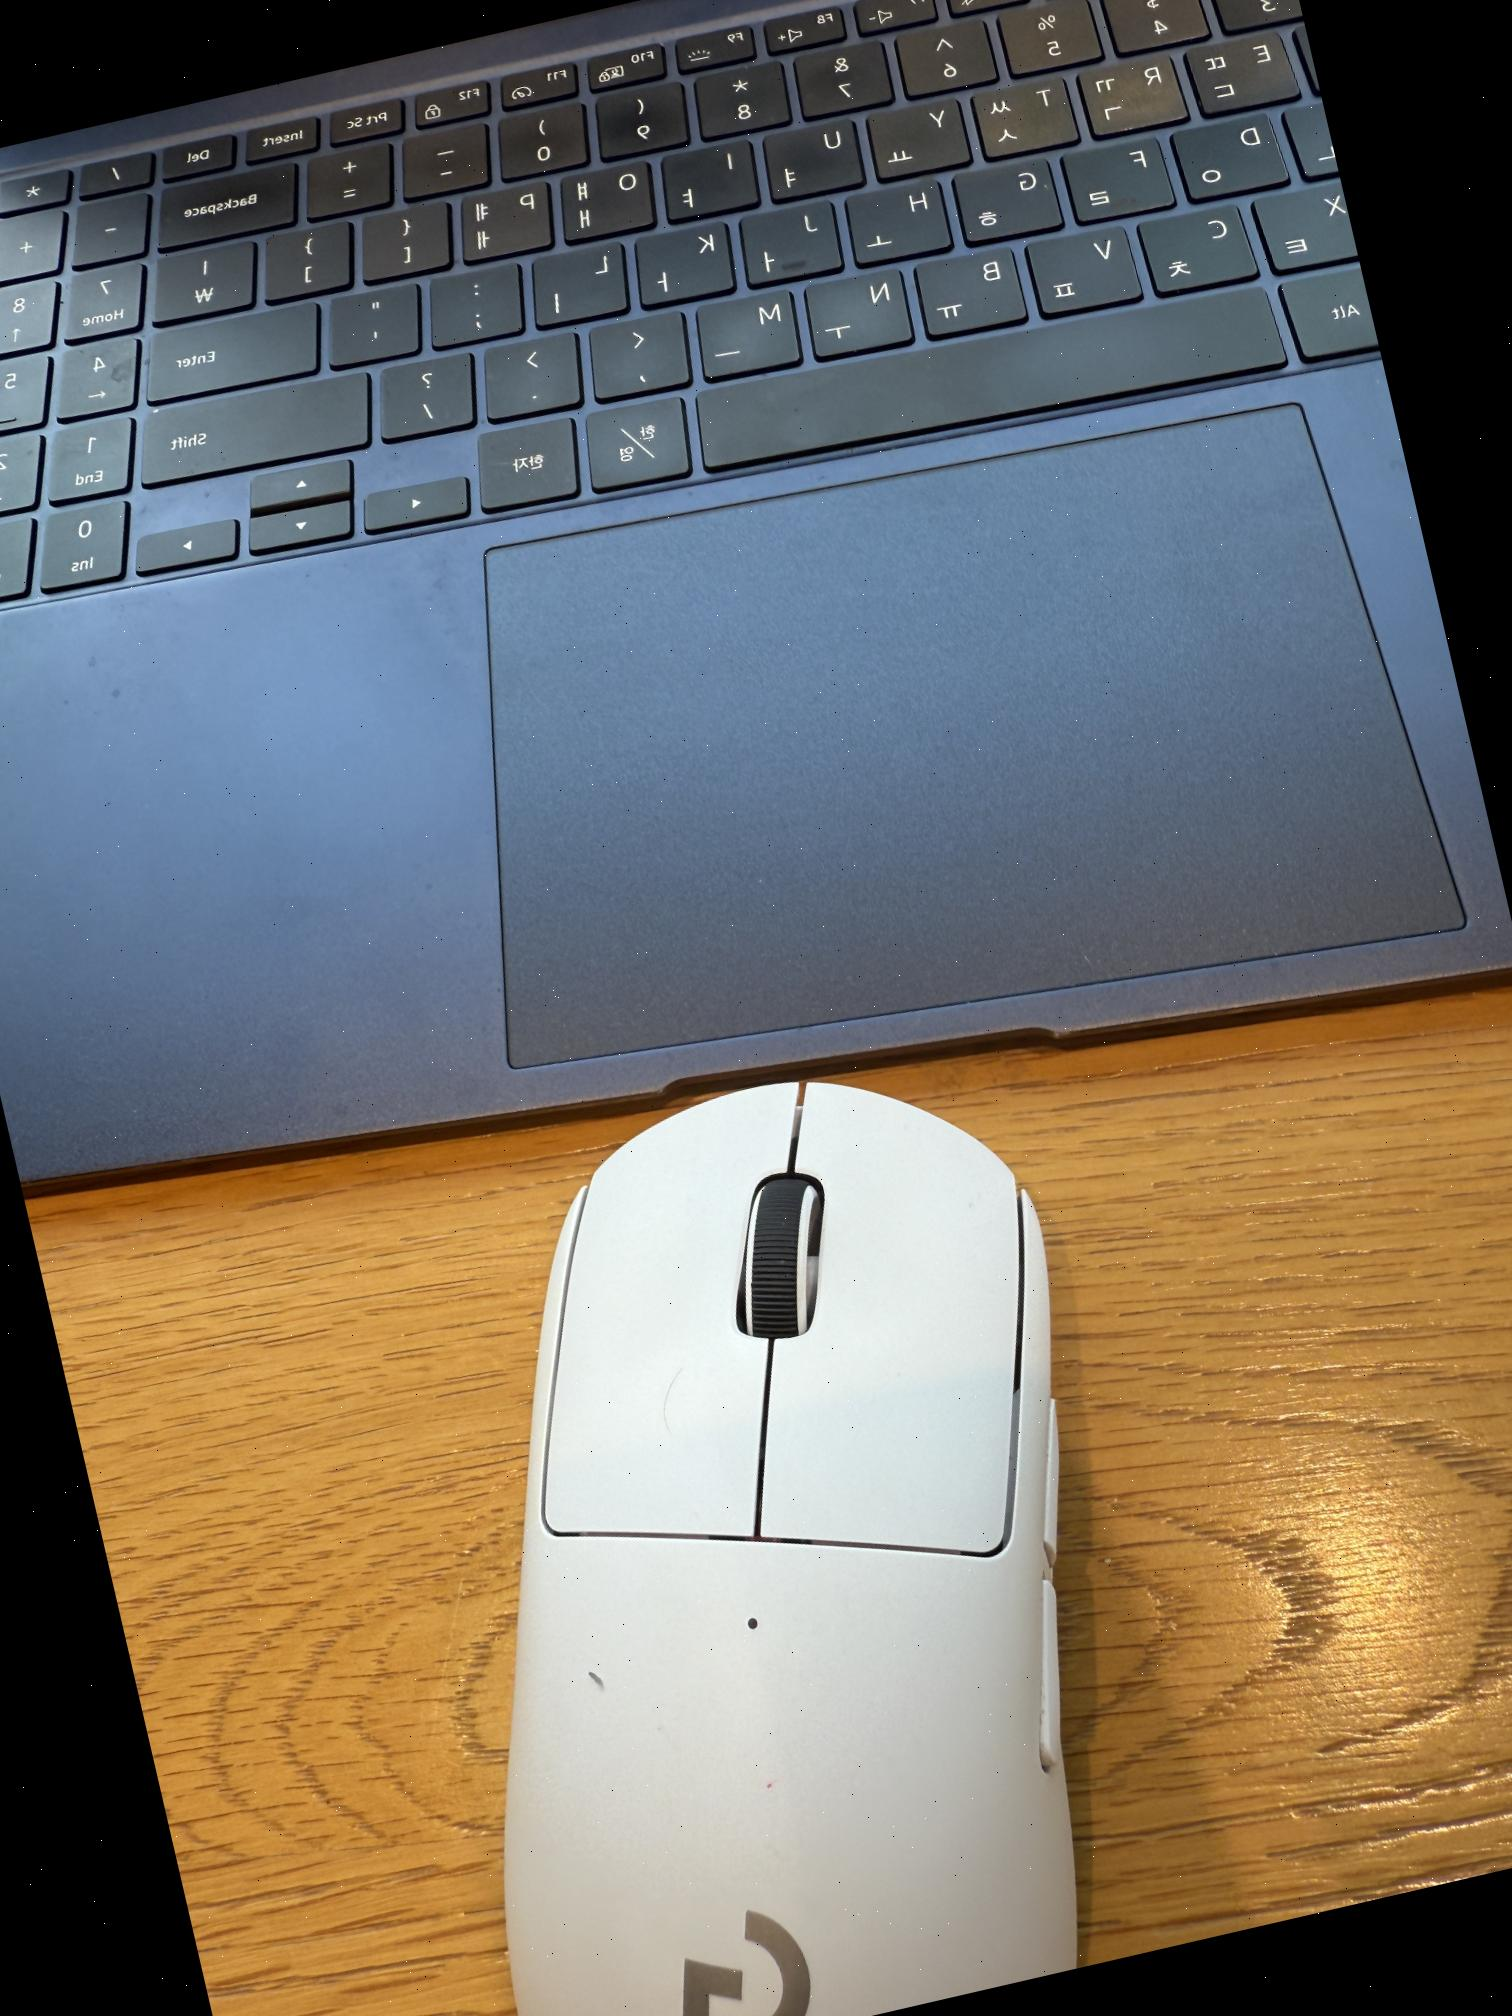front: (322, 1024, 1221, 2016)
